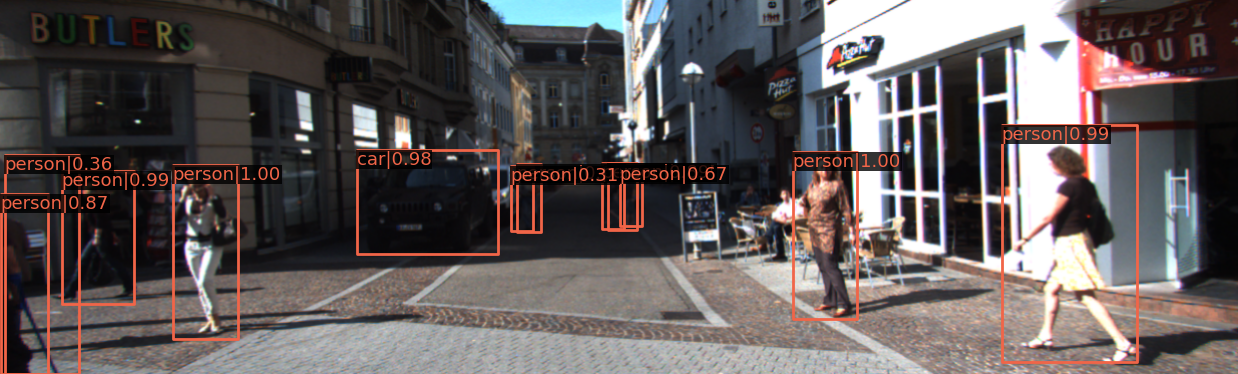car: (358, 151, 494, 256)
person: (1016, 132, 1148, 374), (1, 163, 106, 374), (799, 152, 876, 318), (174, 166, 247, 341), (70, 176, 132, 306), (362, 172, 401, 237), (614, 165, 641, 230), (521, 166, 543, 232), (604, 168, 624, 225)
